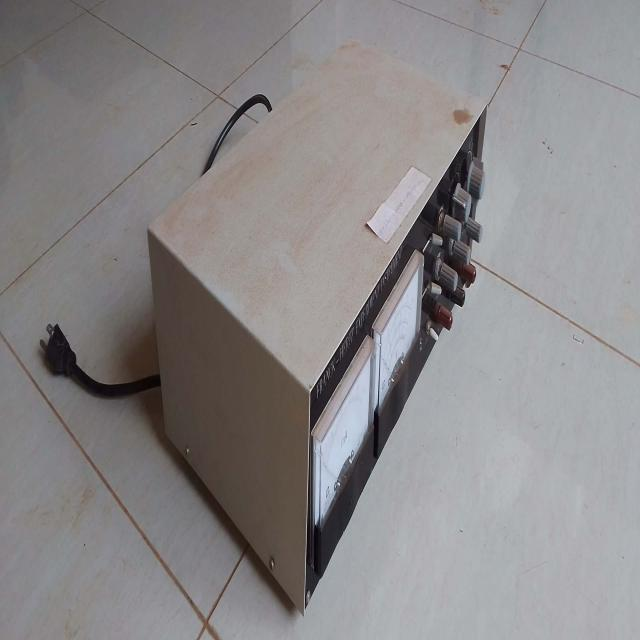Frank-Hertz Experiment Apparatus: (150, 63, 496, 613)
